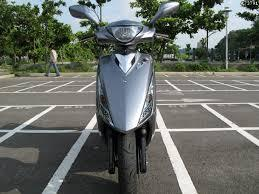motorcycle: (64, 0, 180, 192)
